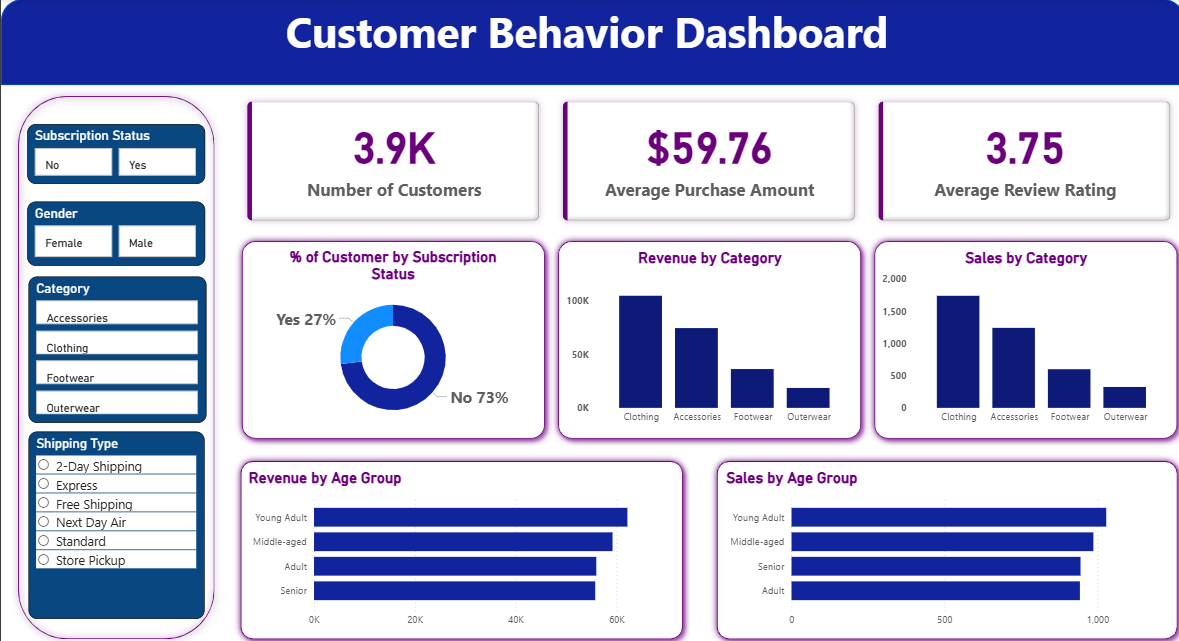

What the dashboard file says about the page in this screenshot:
{"tool":"powerbi","page":{"name":"Page 1","canvas":[1500,820],"ordinal":0},"visuals":[{"type":"cardVisual","fields":{"Data":["customer_behavior customer.Number of Customers","customer_behavior customer.Average Purchase Amount","customer_behavior customer.Average Review Rating"]},"box":[295.9,114.2,1204.4,183.3],"z":0},{"type":"shape","box":[0,0,1500.3,109.4],"z":1000},{"type":"textbox","box":[0,590.2,1500.3,77.9],"z":2000},{"type":"shape","box":[295.9,297.5,402,268.5],"z":3000},{"type":"donutChart","title":"% of Customer by Subscription Status","fields":{"Category":["customer_behavior customer.subscription_status"],"Y":["CountNonNull(customer_behavior customer.customer_id)"]},"box":[308.4,315,376.3,230.4],"z":4000},{"type":"shape","box":[697.1,297.5,402,268.5],"z":5000},{"type":"shape","box":[1098,297.5,402,268.5],"z":6000},{"type":"clusteredColumnChart","title":"Revenue by Category","fields":{"Y":["Sum(customer_behavior customer.purchase_amount)"],"Category":["customer_behavior customer.category"]},"box":[710.8,316.8,374.7,231.6],"z":7000},{"type":"clusteredColumnChart","title":"Sales by Category","fields":{"Y":["CountNonNull(customer_behavior customer.customer_id)"],"Category":["customer_behavior customer.category"]},"box":[1112.8,316.8,374.7,231.6],"z":8000},{"type":"shape","box":[13.3,114.4,266.9,706.2],"z":9000},{"type":"advancedSlicerVisual","fields":{"Values":["customer_behavior customer.subscription_status"]},"box":[33.2,159.2,225.5,76.3],"z":10000},{"type":"advancedSlicerVisual","fields":{"Values":["customer_behavior customer.gender"]},"box":[33.2,257,225.5,81.2],"z":11000},{"type":"advancedSlicerVisual","fields":{"Values":["customer_behavior customer.category"]},"box":[34.8,351.5,225.5,185.7],"z":12000},{"type":"listSlicer","title":"Shipping Type","fields":{"Values":["customer_behavior customer.shipping_type"]},"box":[34.9,548.2,223.4,237.6],"z":13000},{"type":"clusteredBarChart","title":"Revenue by Age Group","fields":{"Y":["Sum(customer_behavior customer.purchase_amount)"],"Category":["customer_behavior customer.age_group"]},"box":[308.4,595.2,550.4,208.9],"z":14000},{"type":"shape","box":[295.1,576.9,578.6,243.7],"z":15000},{"type":"shape","box":[898.5,576.9,601.8,243.7],"z":16000},{"type":"clusteredBarChart","title":"Sales by Age Group","fields":{"Category":["customer_behavior customer.age_group"],"Y":["CountNonNull(customer_behavior customer.customer_id)"]},"box":[913.5,595.2,573.6,208.9],"z":17000},{"type":"clusteredBarChart","title":"Revenue by Age Group","fields":{"Y":["Sum(customer_behavior customer.purchase_amount)"],"Category":["customer_behavior customer.age_group"]},"box":[308.4,595.2,550.4,208.9],"z":18000},{"type":"textbox","box":[0,0,1500.3,109.3],"z":19000}]}

Visuals, with their boxes in screenshot pixels (x1, y1, x2, y2), scaled from the page's 1500x820 canvas onto the 1179x641 screenshot:
cardVisual - customer_behavior customer.Number of Customers x customer_behavior customer.Average Purchase Amount: region(233, 89, 1178, 233)
shape: region(0, 0, 1178, 86)
textbox: region(0, 461, 1178, 522)
shape: region(233, 233, 549, 442)
"% of Customer by Subscription Status" donutChart: region(242, 246, 538, 426)
shape: region(548, 233, 864, 442)
shape: region(863, 233, 1178, 442)
"Revenue by Category" clusteredColumnChart: region(559, 248, 853, 429)
"Sales by Category" clusteredColumnChart: region(875, 248, 1169, 429)
shape: region(10, 89, 220, 640)
advancedSlicerVisual - customer_behavior customer.subscription_status: region(26, 124, 203, 184)
advancedSlicerVisual - customer_behavior customer.gender: region(26, 201, 203, 264)
advancedSlicerVisual - customer_behavior customer.category: region(27, 275, 205, 420)
"Shipping Type" listSlicer: region(27, 429, 203, 614)
"Revenue by Age Group" clusteredBarChart: region(242, 465, 675, 629)
shape: region(232, 451, 687, 640)
shape: region(706, 451, 1178, 640)
"Sales by Age Group" clusteredBarChart: region(718, 465, 1169, 629)
"Revenue by Age Group" clusteredBarChart: region(242, 465, 675, 629)
textbox: region(0, 0, 1178, 85)
